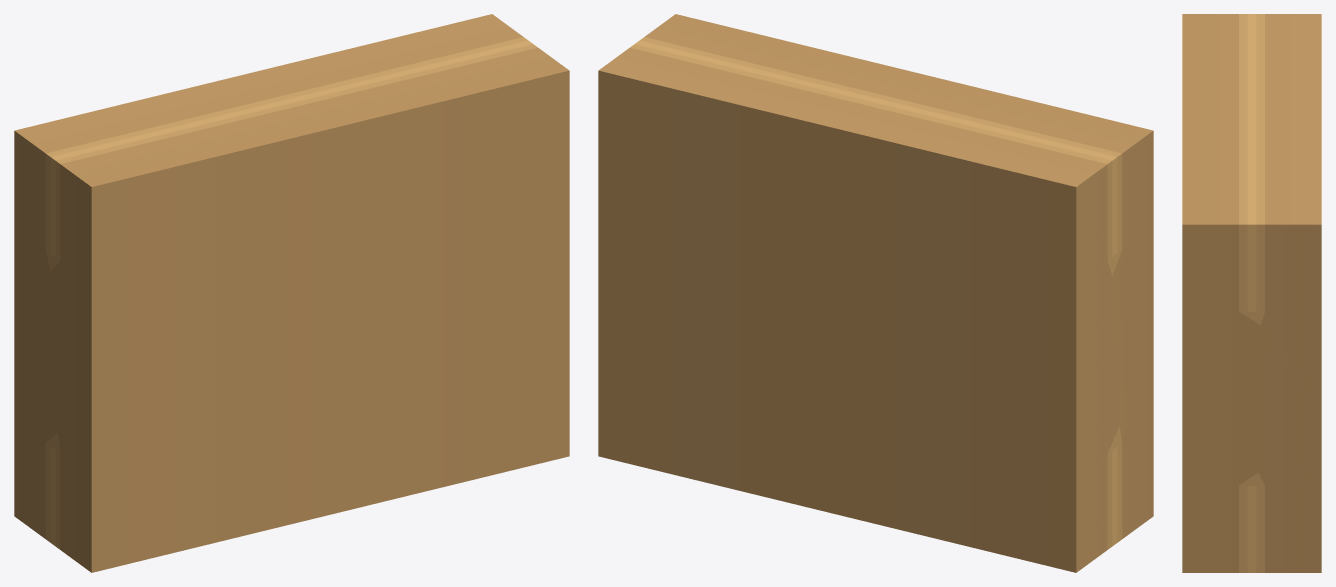
The model's file is Light Packing Box #1.fbx.
3 renders of one model, left to right at view 1: azimuth 30°, elevation 25°; view 2: azimuth 150°, elevation 25°; view 3: azimuth 270°, elevation 25°, orthographic. The views are drawn at different scales.
Parts seen in each view (by area): view 1: Small Light Packing Box #3; view 2: Small Light Packing Box #3; view 3: Small Light Packing Box #3.
Boxes of the visible parts, box(x1,y1,x2,y2) form: Small Light Packing Box #3: box(14, 14, 569, 572); Small Light Packing Box #3: box(598, 14, 1153, 572); Small Light Packing Box #3: box(1182, 14, 1321, 572).
Size of the model in its own units: 199 by 72.34 by 258.
1 material, 1 textured.
